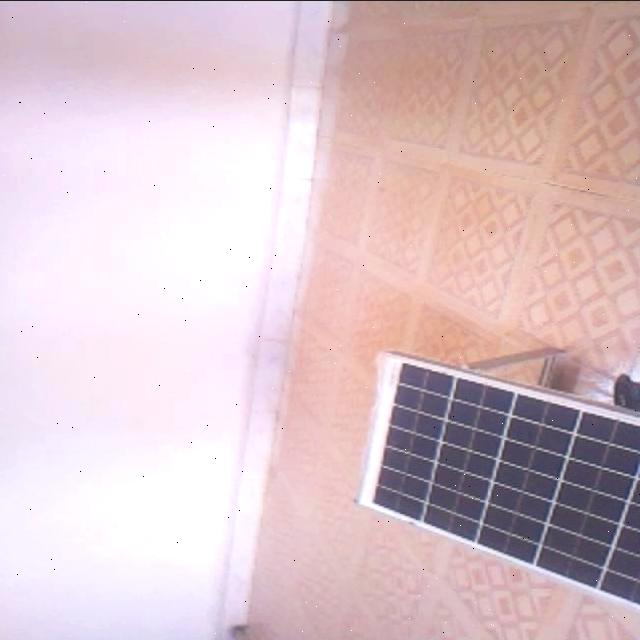Normal Solar Panel: (358, 352, 640, 606)
